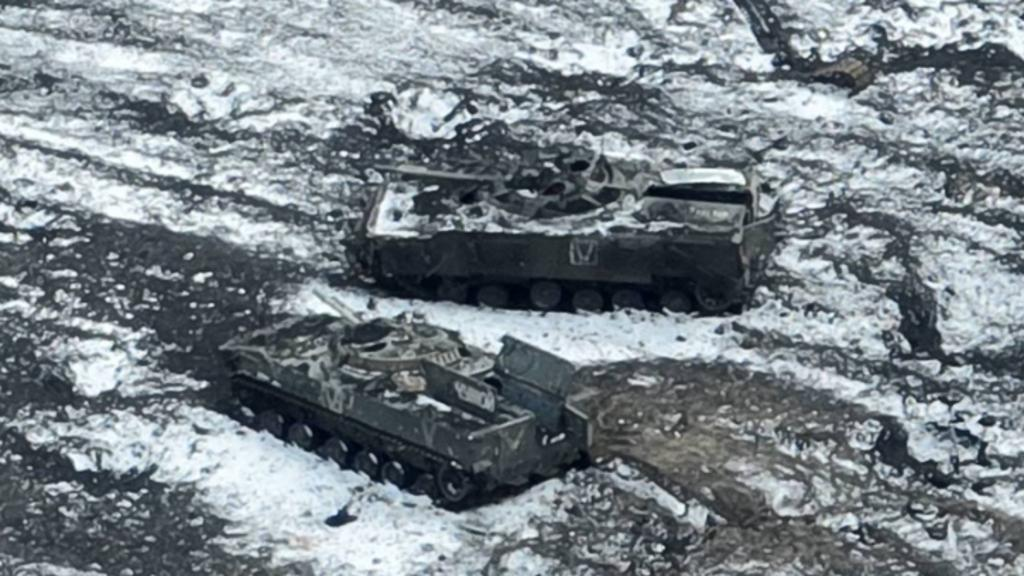APC-IFV: (211, 286, 596, 507), (350, 142, 765, 317)
